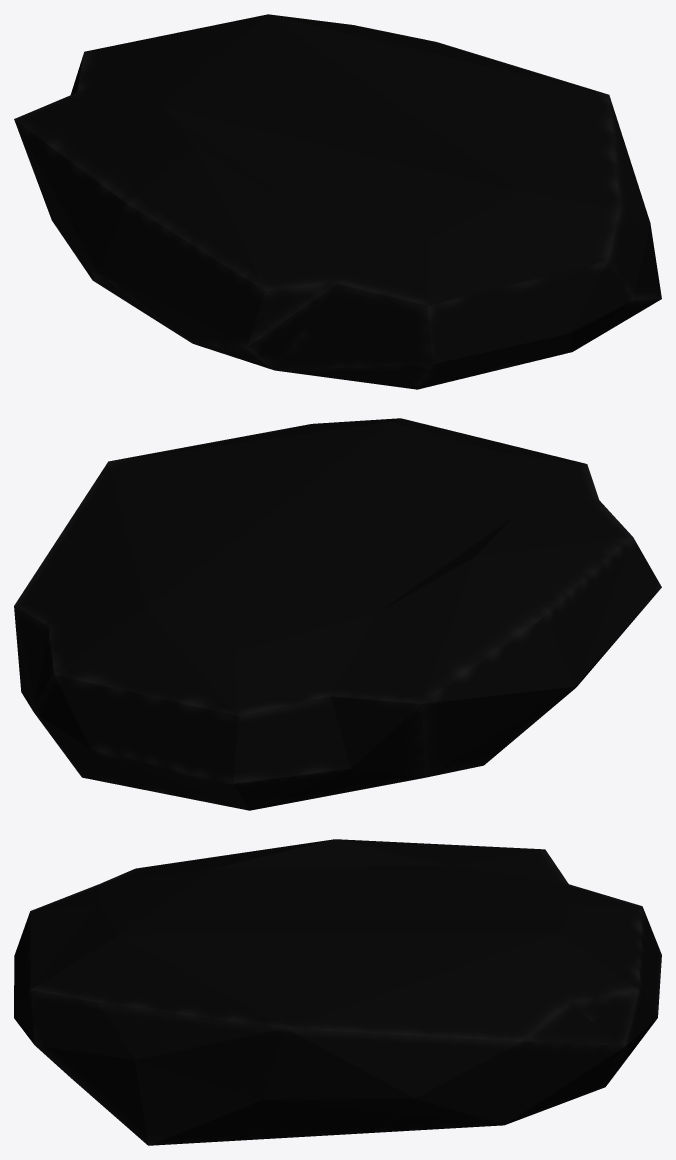
File: Obsidian.glb
3 views of the same model, one above another, from view 1: azimuth 30°, elevation 25°; view 2: azimuth 150°, elevation 25°; view 3: azimuth 270°, elevation 25° (orthographic). The views are drawn at different scales.
Visible parts, largest first — view 1: Cylinder.003; view 2: Cylinder.003; view 3: Cylinder.003.
Part boxes in pixels (x1,y1,x2,y2): Cylinder.003: (14, 14, 661, 389); Cylinder.003: (14, 418, 661, 810); Cylinder.003: (14, 839, 661, 1145).
Size of the model in its own units: 1.14 by 0.4255 by 1.48.
1 material, 1 textured.
